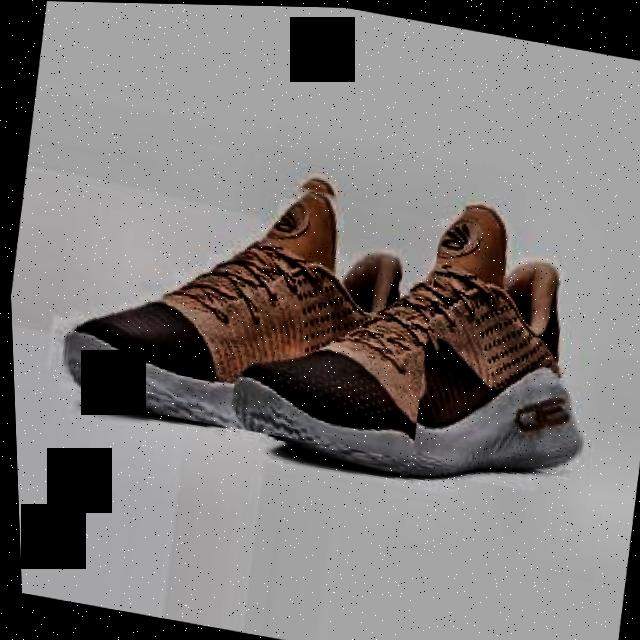shoe: (215, 162, 616, 507), (47, 136, 450, 459)
